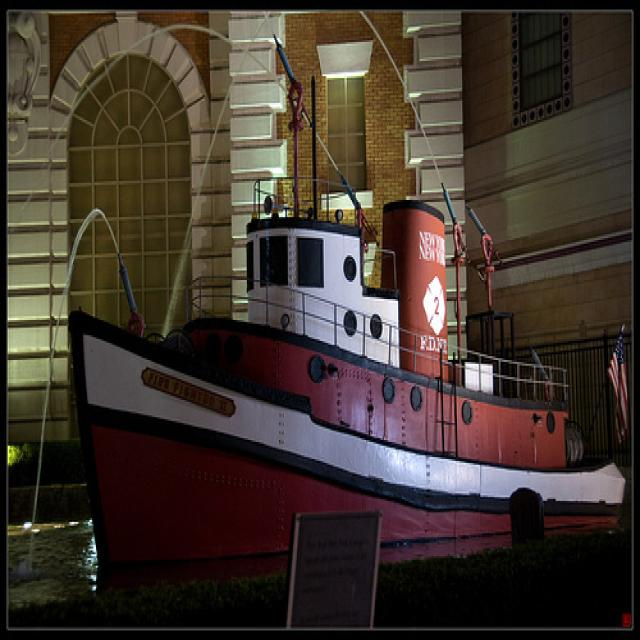Boat: (70, 156, 640, 591)
